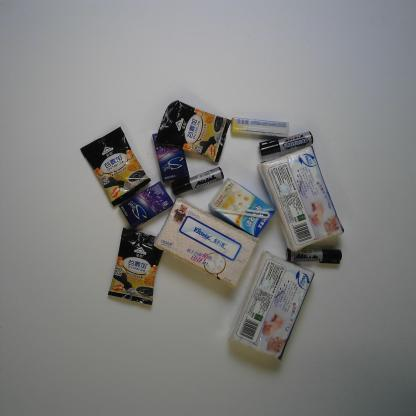Candy: (226, 113, 294, 143)
Gum: (112, 180, 179, 232), (147, 129, 194, 186)
Instant Drink: (77, 125, 154, 209), (103, 228, 171, 308), (157, 97, 232, 163)
Milk: (205, 176, 278, 235)
Stationery: (169, 165, 227, 200), (254, 130, 322, 159), (285, 241, 344, 270)
Tissue: (226, 246, 323, 362), (253, 146, 348, 252), (152, 196, 260, 288)
